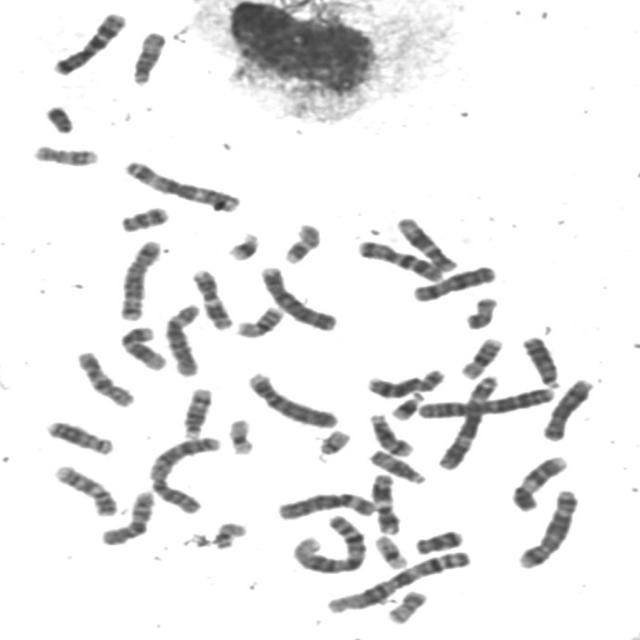A1: (321, 548, 473, 616), (288, 511, 370, 575)
A2: (144, 433, 224, 515), (414, 383, 557, 420)
A3: (119, 156, 243, 214), (433, 372, 502, 471)
B4: (243, 368, 340, 430), (255, 262, 339, 332)
B5: (514, 486, 580, 570), (114, 235, 164, 322)
C10: (70, 346, 138, 409), (96, 487, 157, 548)
C11: (186, 266, 234, 332), (366, 470, 403, 536)
C12: (392, 213, 459, 273), (115, 322, 168, 372)
C6: (272, 488, 378, 522), (159, 300, 205, 378)
C7: (46, 8, 130, 77), (352, 236, 446, 283)
C8: (538, 375, 596, 443), (362, 365, 447, 400)
C9: (49, 461, 119, 517), (508, 452, 571, 513)
D13: (41, 416, 115, 456), (518, 332, 564, 389)
D14: (364, 410, 416, 458), (178, 383, 215, 441)
D15: (365, 446, 428, 486), (126, 28, 168, 87)
E16: (456, 334, 505, 381), (230, 302, 286, 339)
E17: (279, 220, 323, 266), (28, 141, 100, 168)
E18: (116, 202, 172, 234), (410, 526, 465, 556)
F19: (370, 532, 410, 570), (223, 414, 257, 456)
F20: (382, 586, 430, 626), (460, 293, 500, 330)
G21: (386, 389, 426, 423), (222, 228, 262, 262)
G22: (314, 426, 352, 457), (212, 520, 249, 550)
X: (408, 262, 498, 304)
Y: (40, 101, 75, 135)
